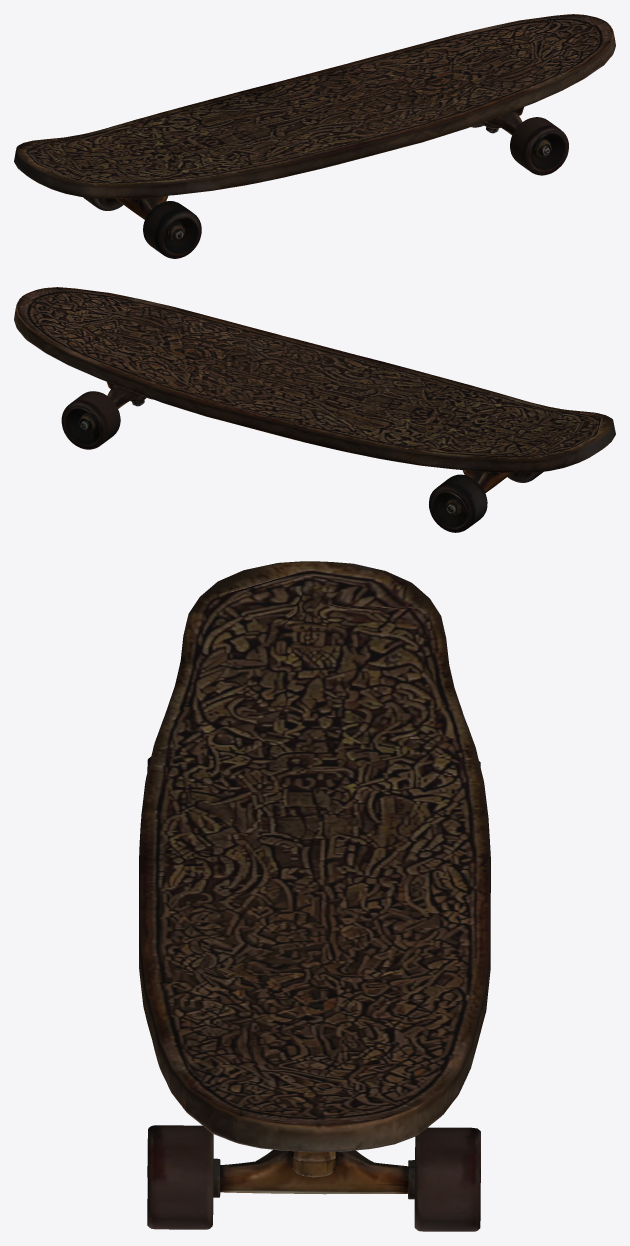
Rendered from CCG_Deck_RuffRoyale_web.glb.
3 views of the same model, one above another, from view 1: azimuth 30°, elevation 25°; view 2: azimuth 150°, elevation 25°; view 3: azimuth 270°, elevation 25° (orthographic). The views are drawn at different scales.
Parts seen in each view (by area): view 1: SM_Deck_RuffRoyale; view 2: SM_Deck_RuffRoyale; view 3: SM_Deck_RuffRoyale.
Boxes of the visible parts, x1,y1,x2,y2 form: SM_Deck_RuffRoyale: (14, 14, 615, 258); SM_Deck_RuffRoyale: (14, 287, 615, 532); SM_Deck_RuffRoyale: (139, 561, 490, 1231).
Bounding box in the file's own units: 0.8199 × 0.1346 × 0.2145.
Materials: 1 (1 with a texture image).
